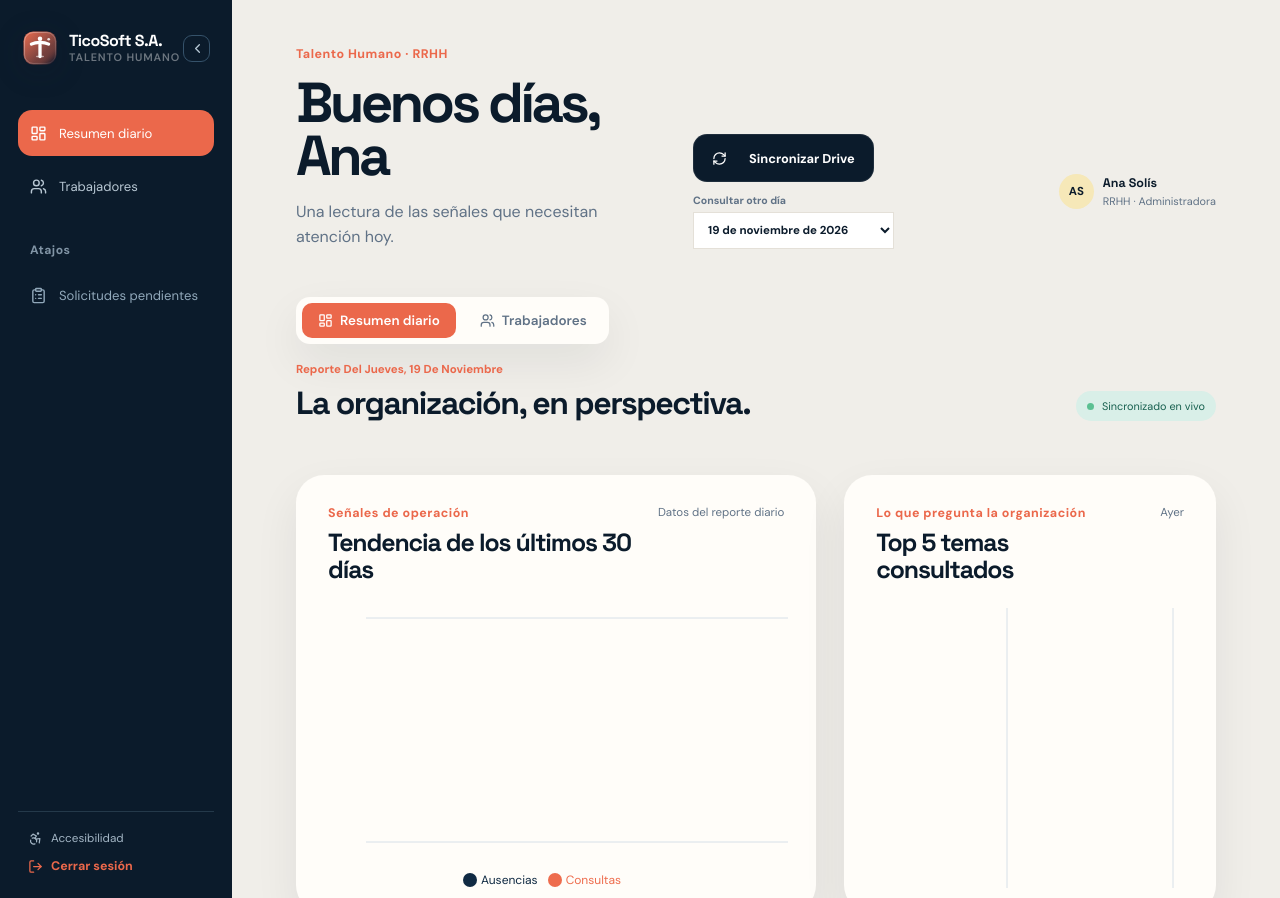
Test case: HrWorkersPage y WorkersDirectory › navega desde el enlace lateral Trabajadores y renderiza el directorio sin quedar en blanco
Click the link "Trabajadores" at (84, 186), box [30, 178, 138, 194]
(page scrolled)
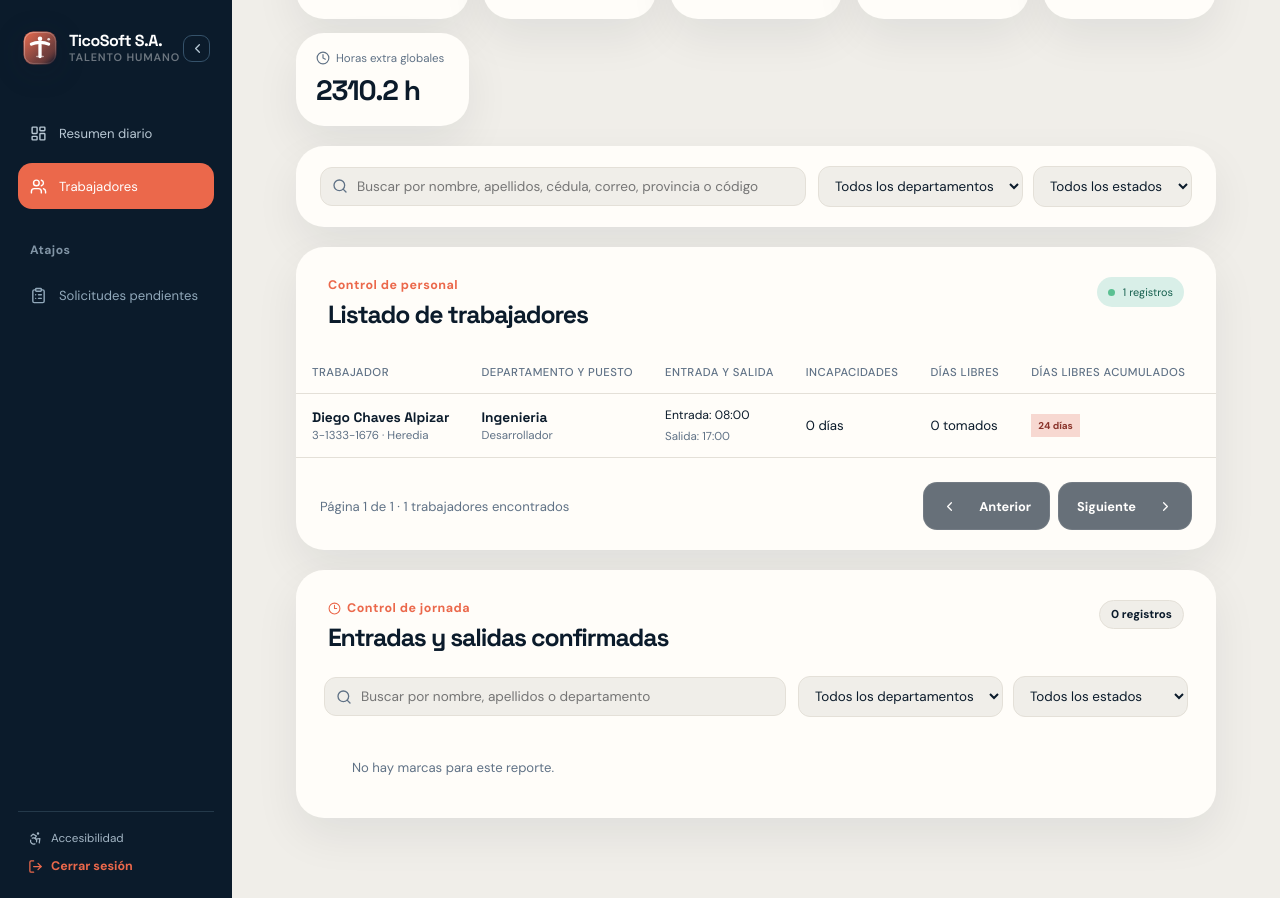
Result: the text "Diego Chaves Alpizar" is shown at [312, 408, 450, 426]
Result: the search field with placeholder "Buscar por nombre, apellidos, cédula, correo, provincia o código" is shown at [320, 166, 806, 206]
Result: the search field with placeholder "Buscar por nombre, apellidos o departamento" is shown at [324, 677, 786, 716]
